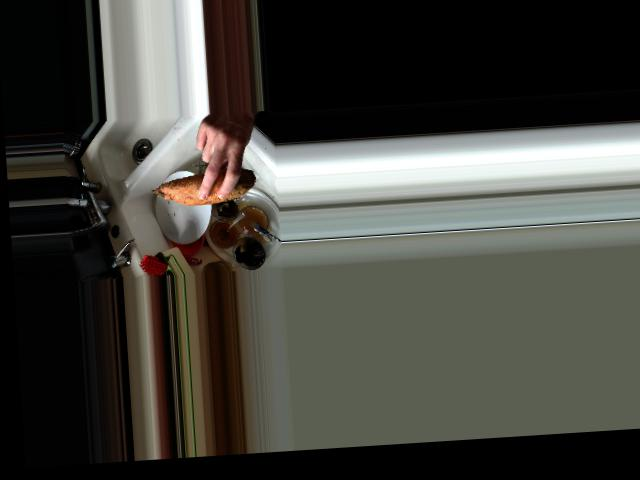sweet_potato: (145, 162, 260, 207)
